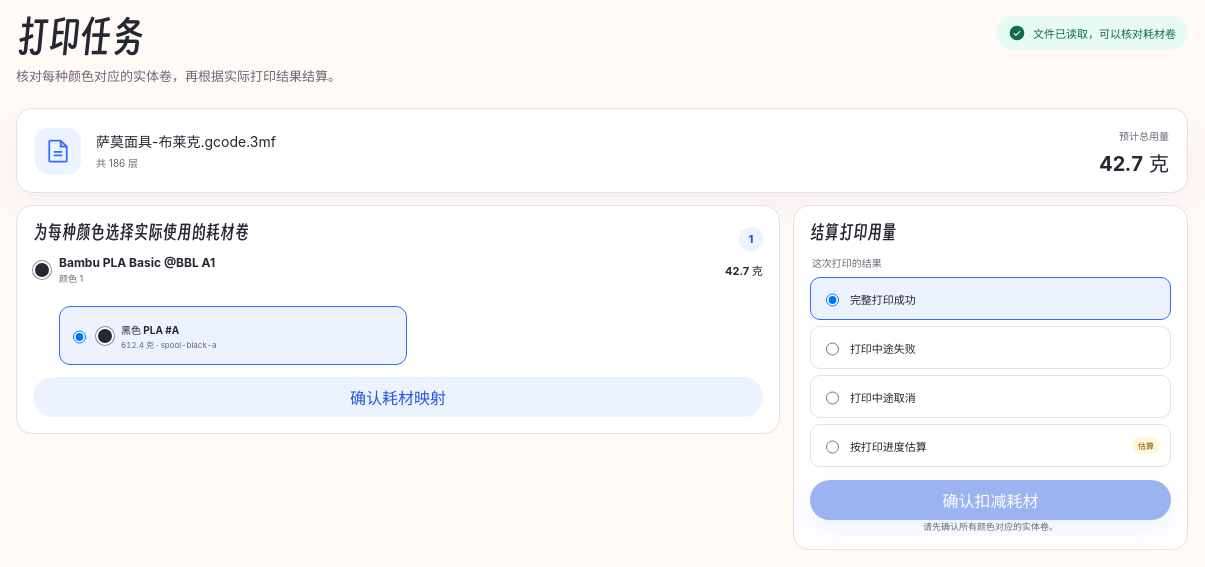
Test: Job › preselects a unique suggestion but keeps settlement locked until mapping succeeds
Expected: the radio button named "黑色 PLA #A，612.4 克" is checked, [73,318,86,356]
Expected: the button "确认扣减耗材" is disabled, [810,480,1171,520]
Click the button "确认耗材映射" at (398, 397), box [33,377,763,417]
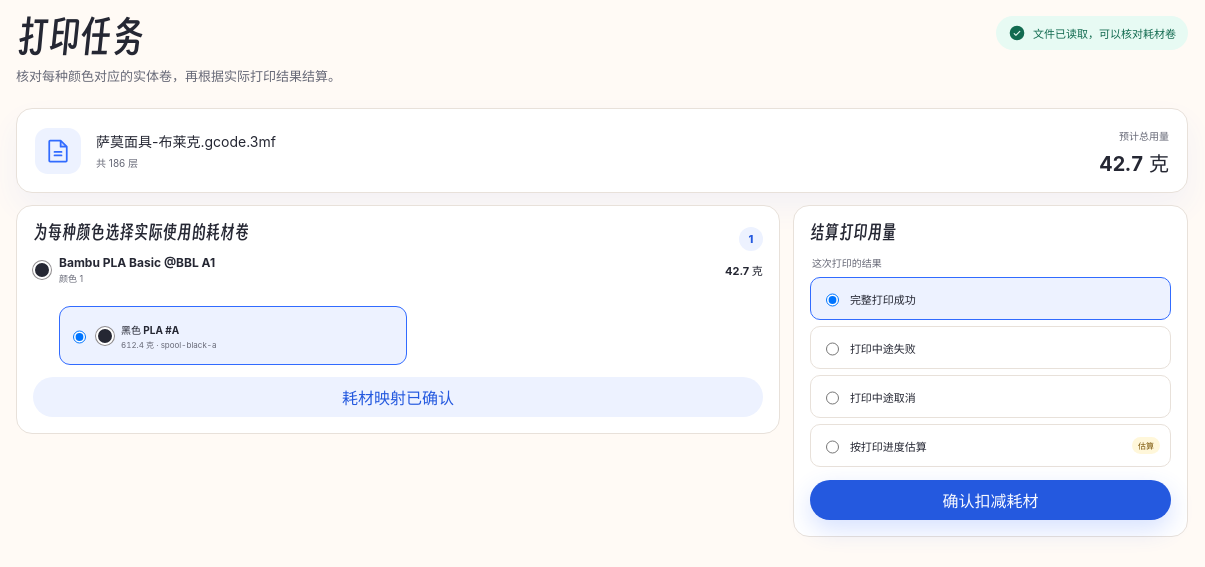
Expected: the button "确认扣减耗材" is enabled, [810,480,1171,520]
